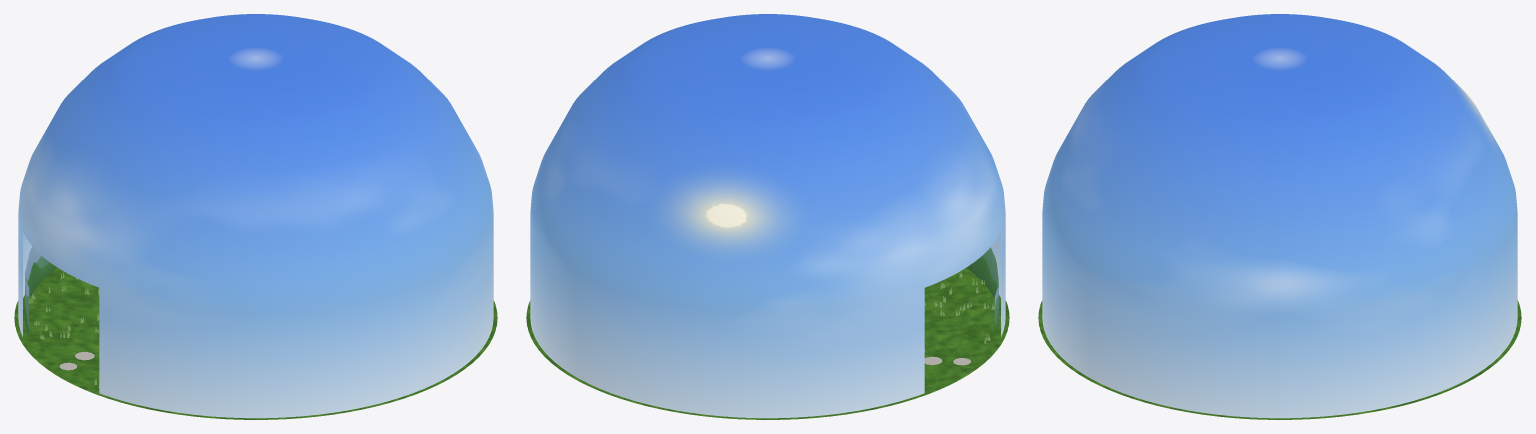
Rendered from terra.glb.
3 views of the same model, side by side, from view 1: azimuth 30°, elevation 25°; view 2: azimuth 150°, elevation 25°; view 3: azimuth 270°, elevation 25° (orthographic).
Parts seen in each view (by area): view 1: Sky, Lawn, Hills; view 2: Sky, Lawn, Hills; view 3: Sky, Lawn.
Part boxes in pixels (x1=…): Sky: x1=18, y1=14, x2=493, y2=418; Lawn: x1=14, y1=268, x2=497, y2=419; Hills: x1=25, y1=246, x2=57, y2=335; Sky: x1=530, y1=14, x2=1005, y2=418; Lawn: x1=526, y1=268, x2=1009, y2=419; Hills: x1=966, y1=247, x2=998, y2=335; Sky: x1=1042, y1=14, x2=1517, y2=418; Lawn: x1=1038, y1=300, x2=1521, y2=419.
Size of what is drawn, in the model's own units: 18.2 by 11.02 by 18.2.
Materials: 19 (3 with a texture image).
